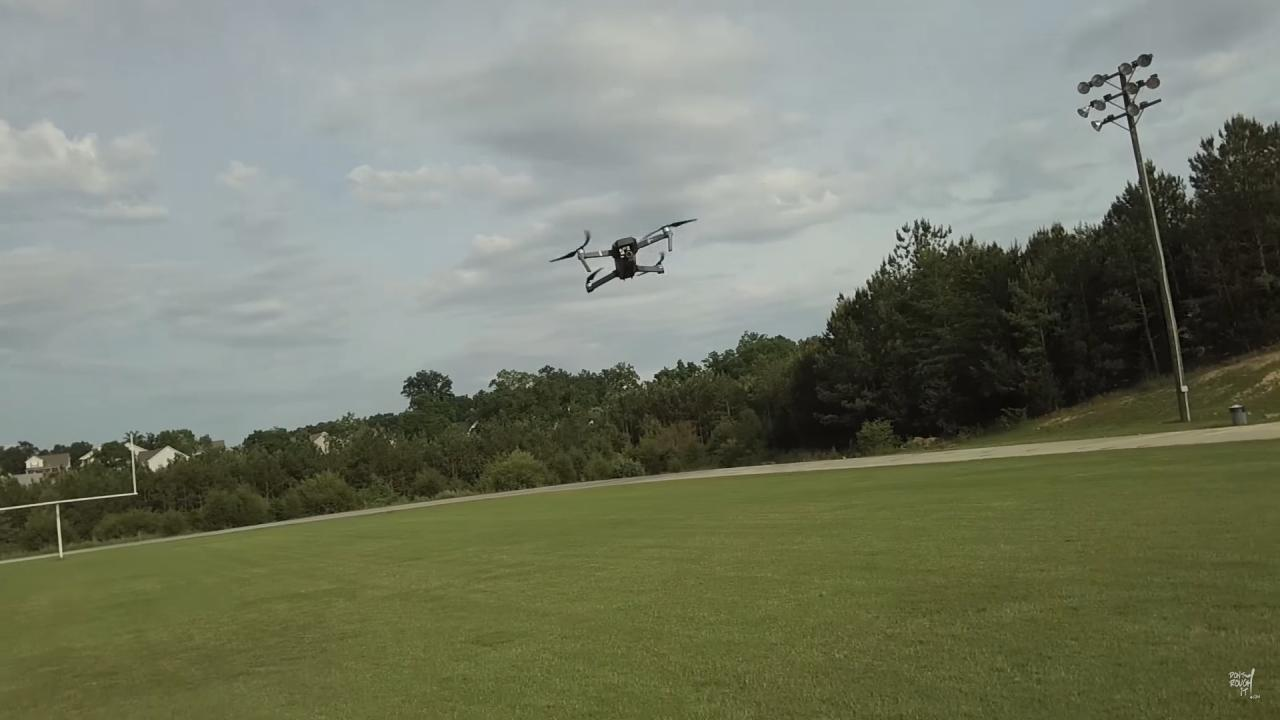Drone: (542, 210, 707, 302)
